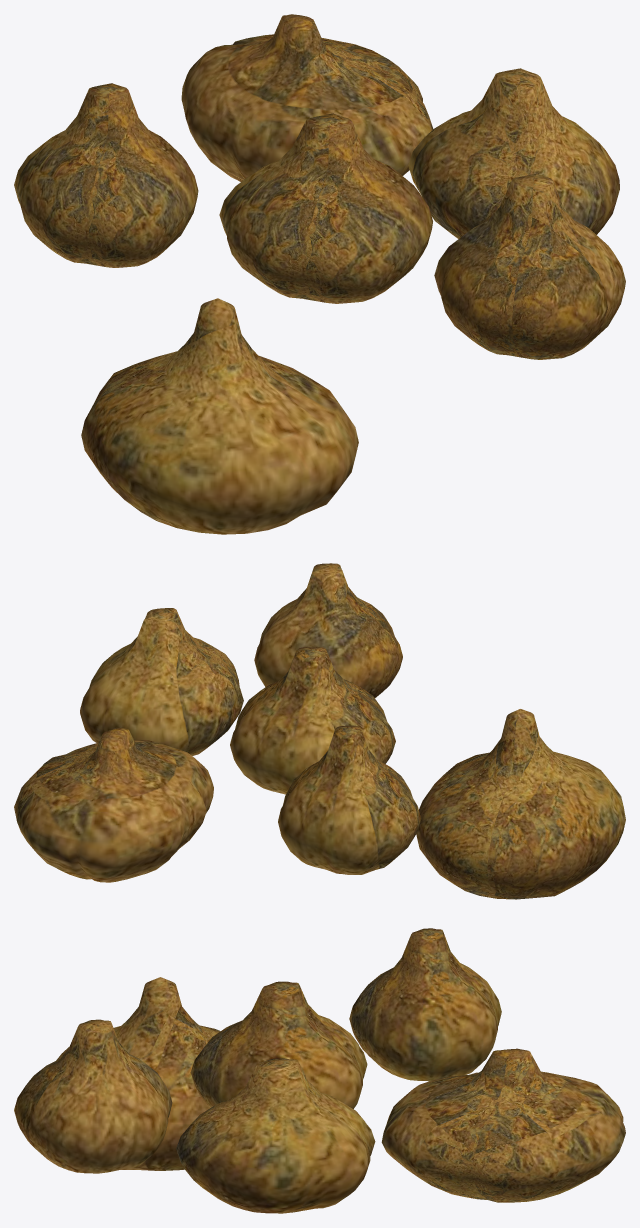
Rendered from yanhusuo.FBX.
3 renders of one model, top to bottom at view 1: azimuth 30°, elevation 25°; view 2: azimuth 150°, elevation 25°; view 3: azimuth 270°, elevation 25°, orthographic. The views are drawn at different scales.
Visible parts, largest first — view 1: Cylinder001, Line002, Line001, Line005, Line004, Line003; view 2: Cylinder001, Line001, Line003, Line004, Line002, Line005; view 3: Line001, Line003, Line005, Line004, Line002, Cylinder001.
Boxes of the visible parts, left/top/right/bottom form: Cylinder001: left=81, top=298, right=358, bottom=534; Line002: left=219, top=113, right=432, bottom=303; Line001: left=181, top=14, right=433, bottom=181; Line005: left=434, top=173, right=625, bottom=359; Line004: left=14, top=83, right=198, bottom=267; Line003: left=408, top=68, right=619, bottom=238; Cylinder001: left=416, top=709, right=625, bottom=899; Line001: left=14, top=727, right=213, bottom=882; Line003: left=80, top=608, right=243, bottom=755; Line004: left=278, top=725, right=420, bottom=874; Line002: left=230, top=646, right=395, bottom=794; Line005: left=254, top=563, right=402, bottom=697; Line001: left=381, top=1048, right=625, bottom=1202; Line003: left=176, top=1058, right=375, bottom=1213; Line005: left=14, top=1019, right=172, bottom=1173; Line004: left=349, top=928, right=501, bottom=1081; Line002: left=190, top=981, right=367, bottom=1108; Cylinder001: left=56, top=977, right=220, bottom=1170.
Size of the model in its own units: 44.69 by 21.04 by 50.24.
